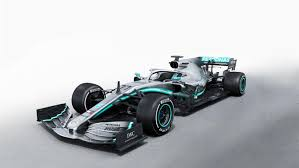f1_car: (32, 49, 252, 162)
